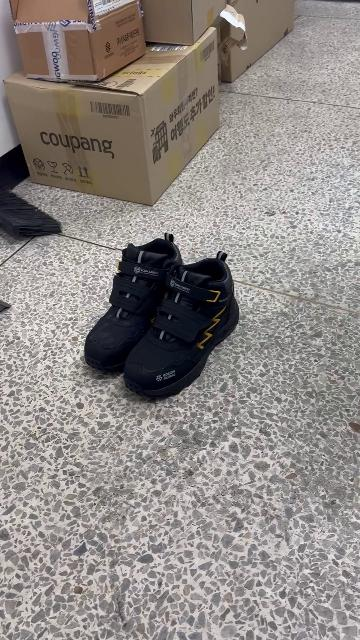shoe_worn: (121, 246, 246, 405), (83, 230, 188, 377)
